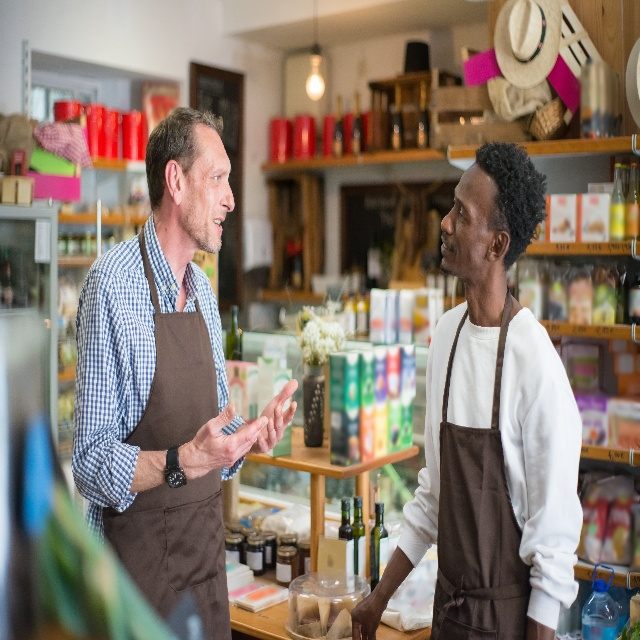Sin_guantes: (186, 403, 268, 476), (254, 378, 299, 455), (351, 593, 386, 640)
